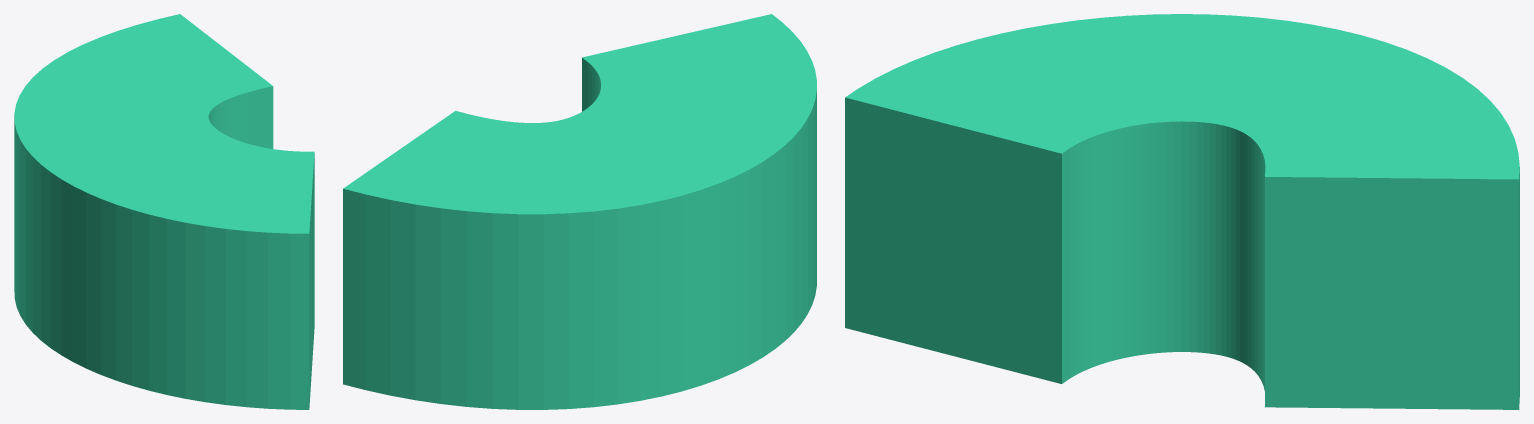
The picture shows the model from 3 angles, left to right: view 1: azimuth 30°, elevation 25°; view 2: azimuth 150°, elevation 25°; view 3: azimuth 270°, elevation 25°; orthographic projection. The views are drawn at different scales.
Parts seen in each view (by area): view 1: NurbsCurve; view 2: NurbsCurve; view 3: NurbsCurve.
Part boxes in pixels (bbox=[...]): NurbsCurve: bbox=[14, 14, 314, 409]; NurbsCurve: bbox=[343, 14, 816, 409]; NurbsCurve: bbox=[845, 14, 1519, 409].
Size of the model in its own units: 76.98 by 50 by 133.
